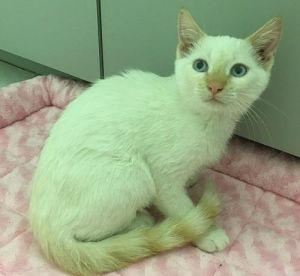siamese: (166, 2, 286, 126)
